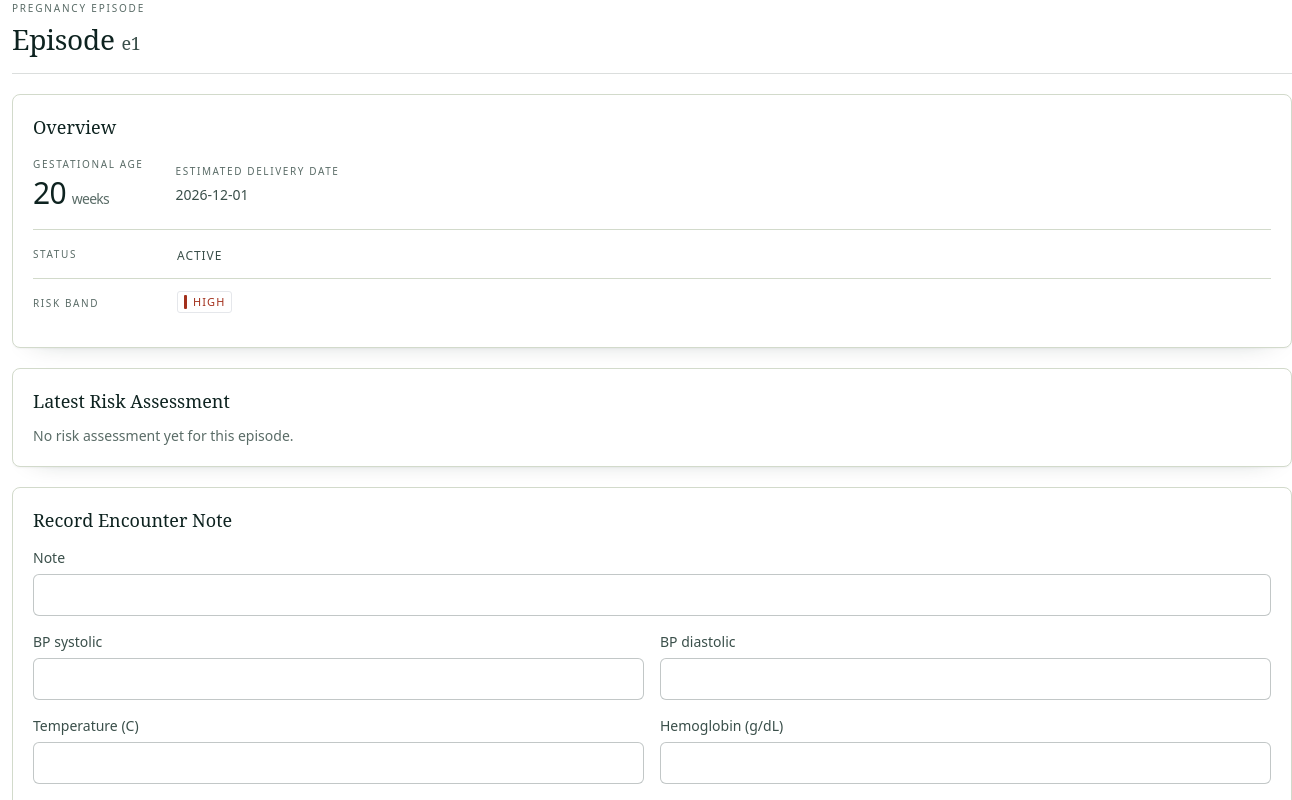
it: ClinicianEpisodeDetailPage › submits the encounter note with noteText and all four vitals fields, with no role branching
Expected: the number field labelled "BP systolic" is shown, [33,658,644,700]
Expected: the number field labelled "BP diastolic" is shown, [660,658,1271,700]
Step 1. Type "BP elevated on exam." into the field labelled "Note" → (652, 595), box [33,574,1271,616]
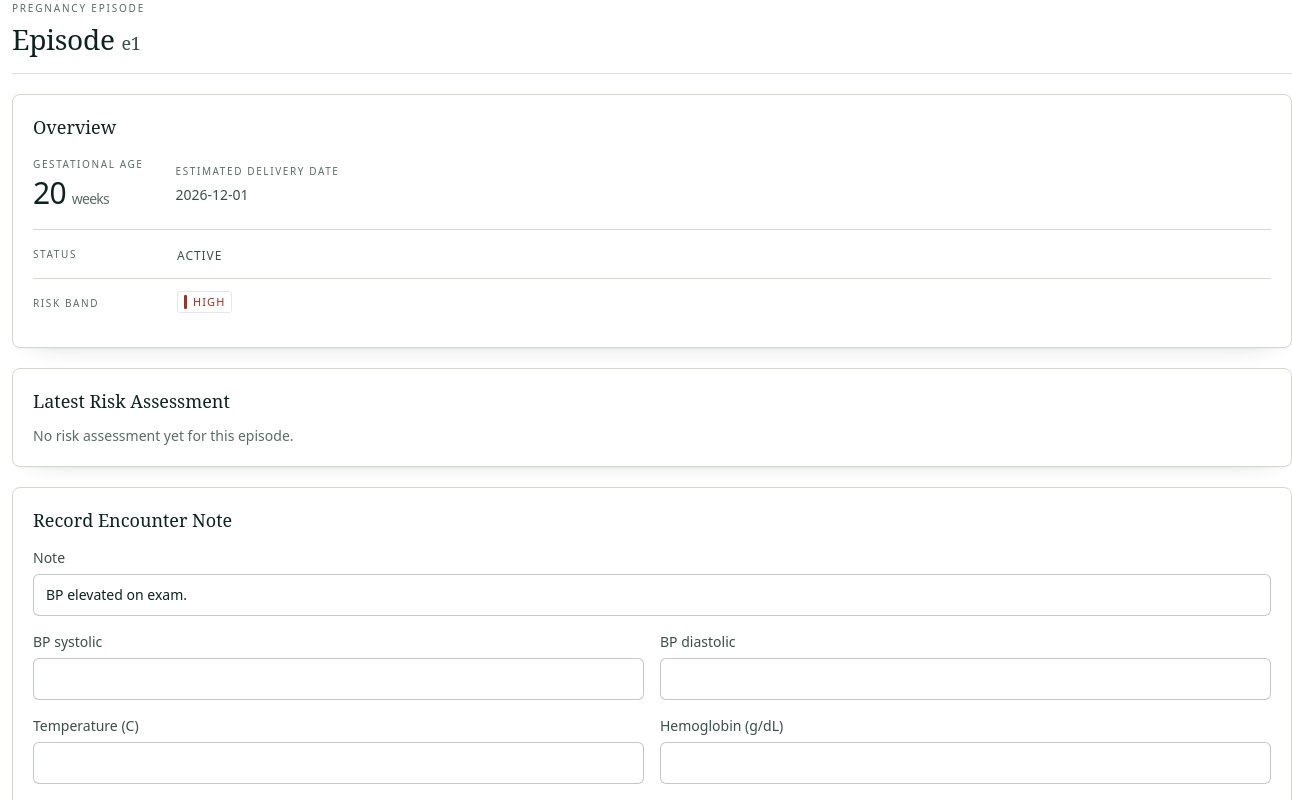
Step 2. Type "150" into the number field labelled "BP systolic" → (338, 679), box [33,658,644,700]
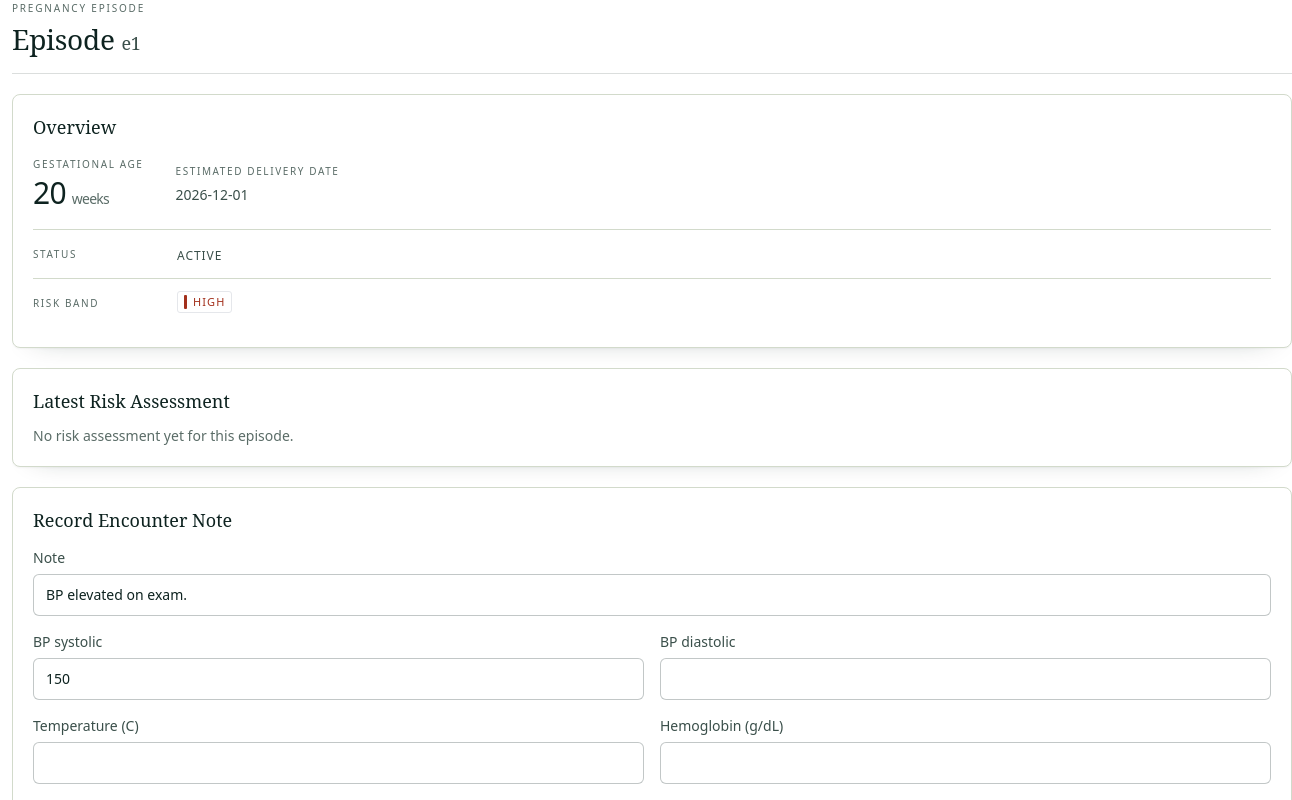
Step 3. Type "95" into the number field labelled "BP diastolic" → (966, 679), box [660,658,1271,700]
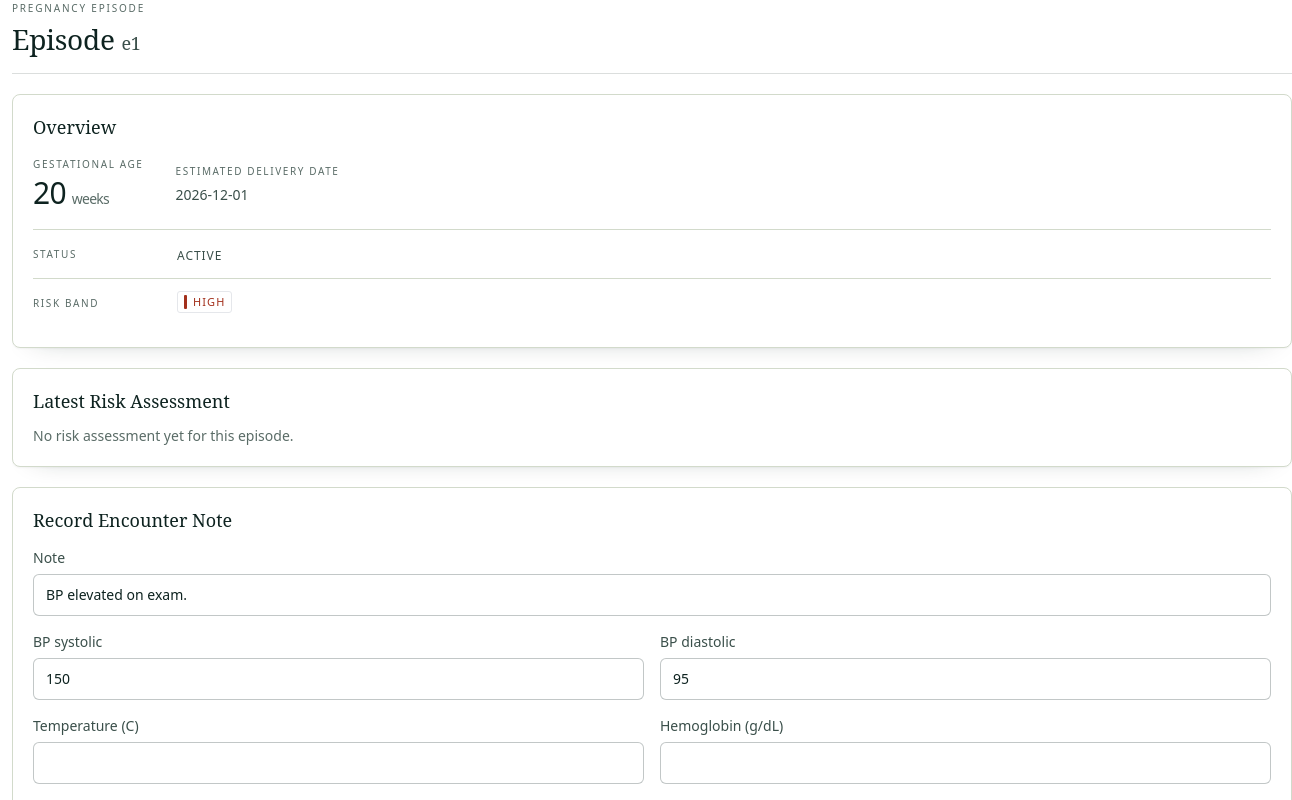
Step 4. Type "37.0" into the number field labelled "Temperature (C)" → (338, 763), box [33,742,644,784]
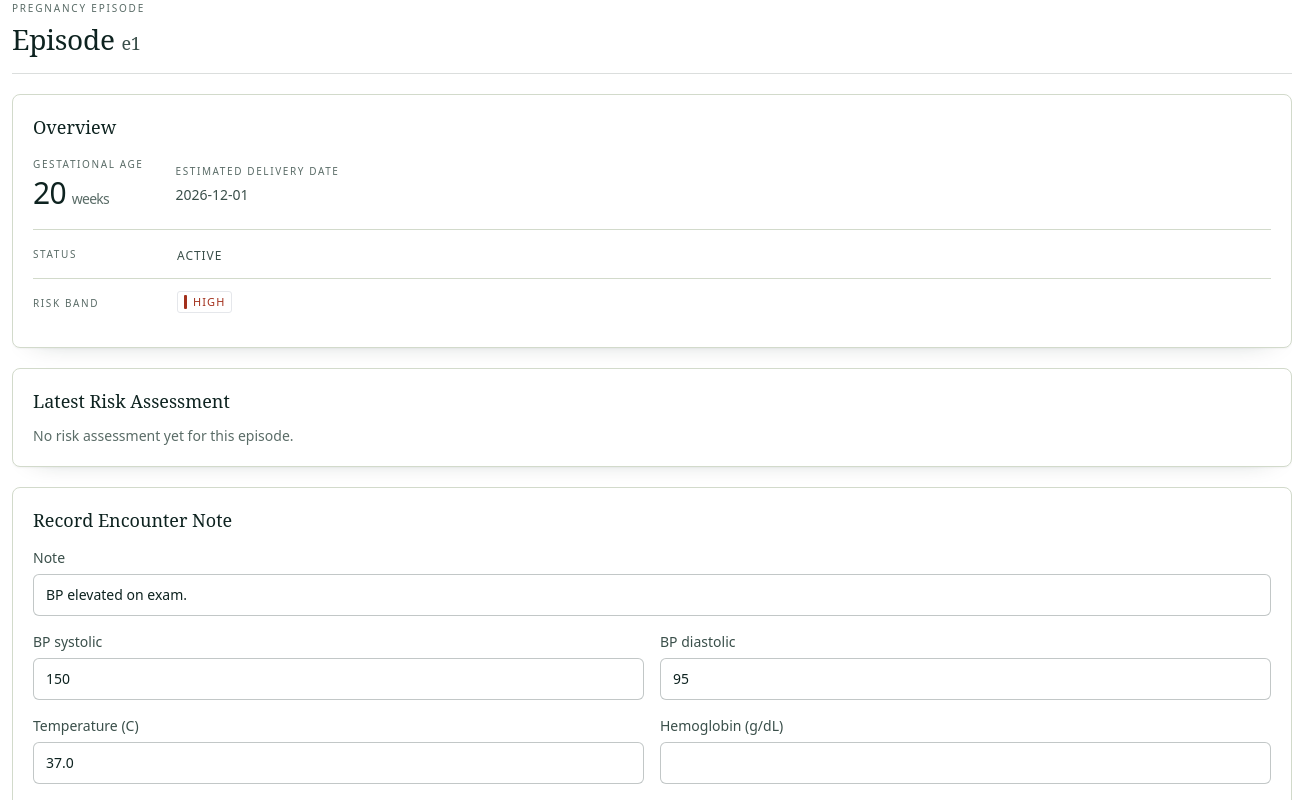
Step 5. Type "11.0" into the number field labelled "Hemoglobin (g/dL)" → (966, 763), box [660,742,1271,784]
(page scrolled)
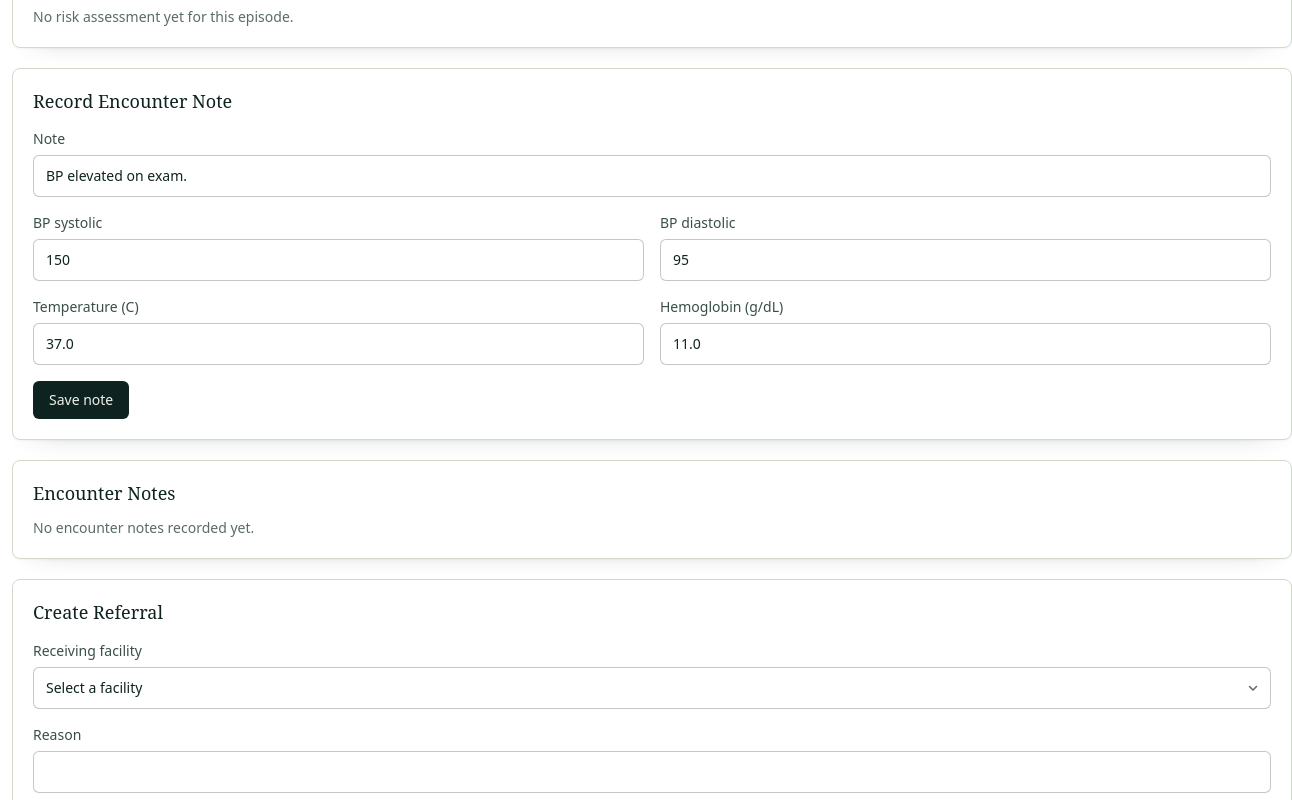
Step 6. Click the button "Save note" → (81, 400), box [33,381,129,419]
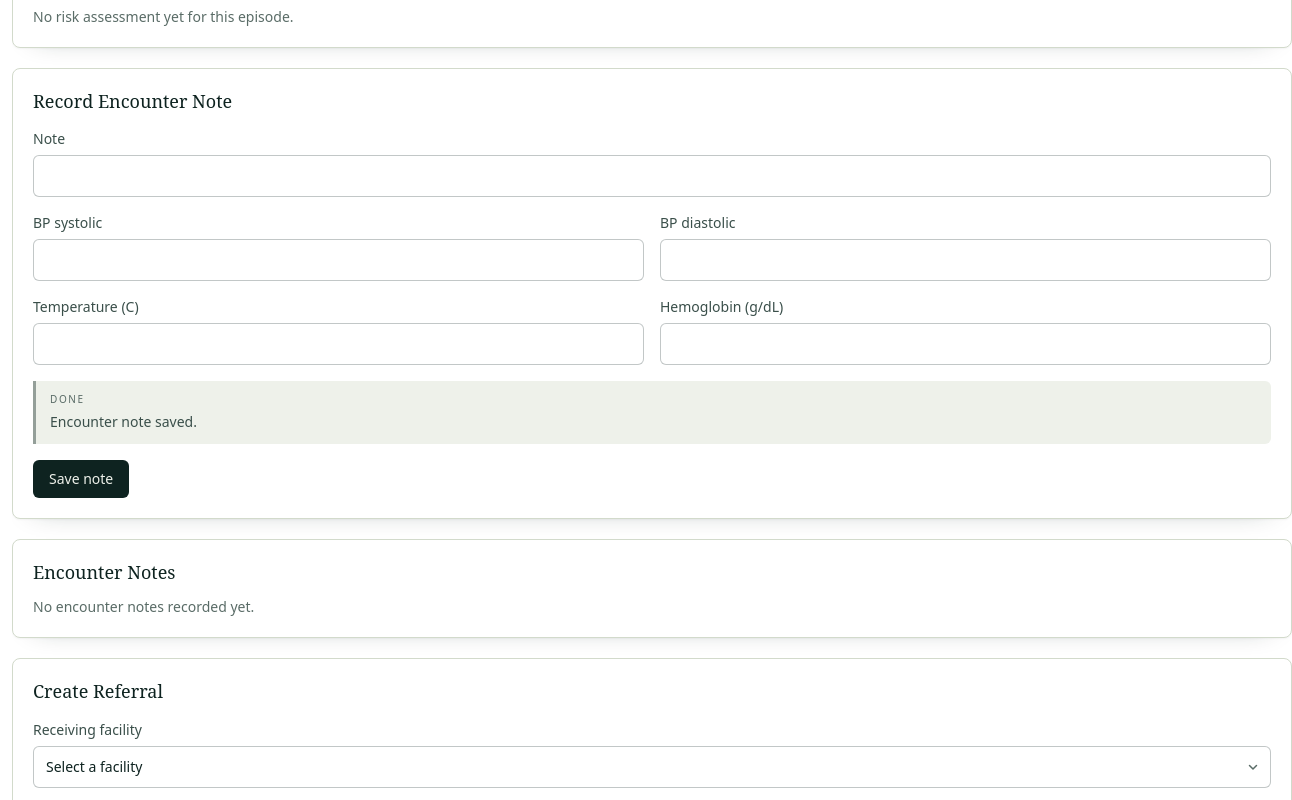
Result: the text "Encounter note saved." is shown at [50,412,197,431]
